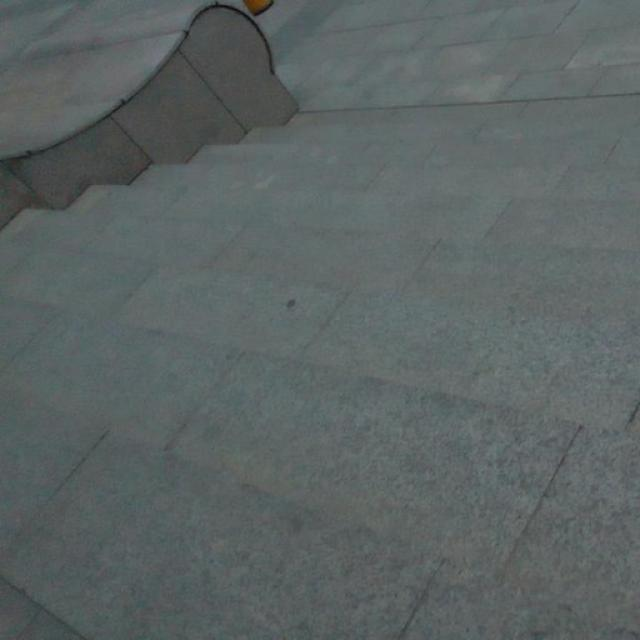stair: (12, 109, 636, 548)
